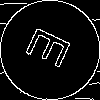E: (25, 25, 80, 74)
